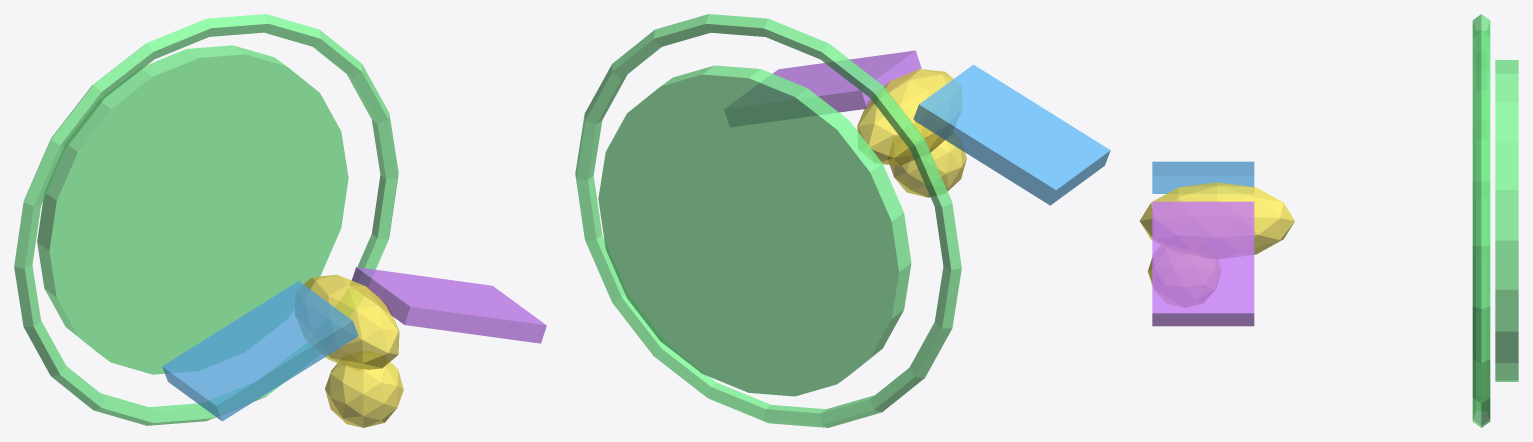
Rendered from 07_firefly_cluster.glb.
The picture shows the model from 3 angles, left to right: view 1: azimuth 30°, elevation 25°; view 2: azimuth 150°, elevation 25°; view 3: azimuth 270°, elevation 25°; orthographic projection. The views are drawn at different scales.
Parts seen in each view (by area): view 1: base_disc, base_ring, wing_l, wing_r, body, head; view 2: base_disc, base_ring, wing_l, wing_r, body, head; view 3: wing_r, body, base_ring, base_disc, head, wing_l.
Part boxes in pixels (box(x1,y1,x2,y2)): base_disc: box(37, 45, 348, 374); base_ring: box(14, 14, 398, 425); wing_l: box(162, 281, 358, 421); wing_r: box(352, 267, 546, 343); body: box(295, 274, 399, 369); head: box(325, 362, 403, 427); base_disc: box(598, 65, 911, 396); base_ring: box(575, 14, 961, 427); wing_l: box(913, 64, 1110, 205); wing_r: box(724, 50, 921, 126); body: box(857, 69, 961, 165); head: box(890, 132, 966, 197); wing_r: box(1152, 201, 1254, 326); body: box(1139, 182, 1294, 258); base_ring: box(1472, 14, 1490, 427); base_disc: box(1495, 60, 1518, 381); head: box(1148, 246, 1221, 307); wing_l: box(1152, 161, 1254, 193).
Bounding box in the file's own units: 0.9 × 0.9 × 0.818.
